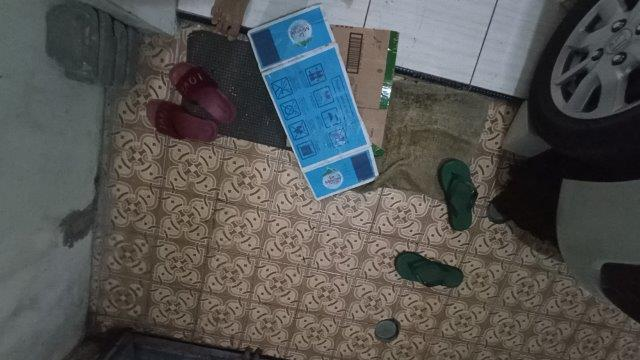kardus: (249, 6, 397, 199)
